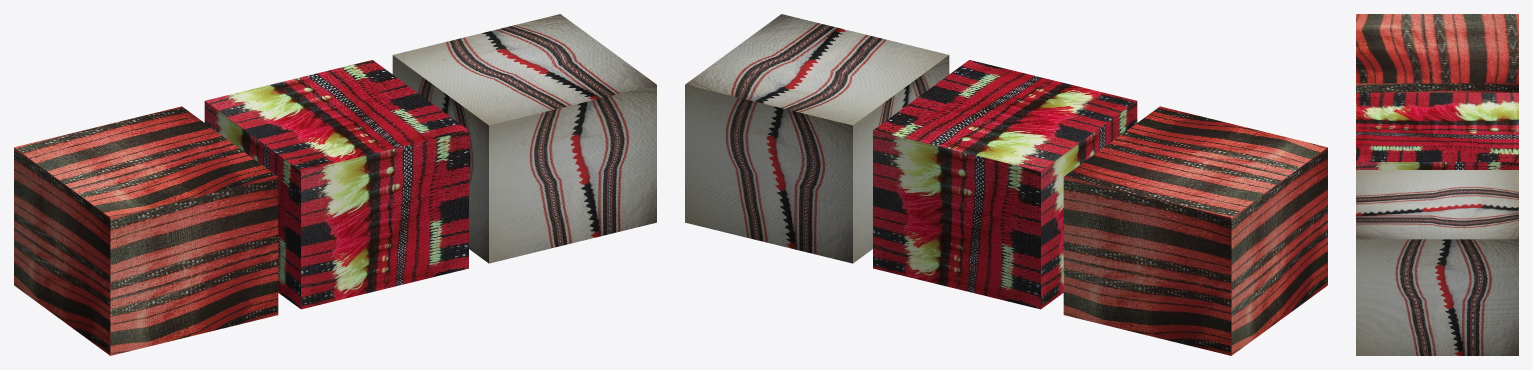
Rendered from _3shirts.FBX.
3 renders of one model, left to right at view 1: azimuth 30°, elevation 25°; view 2: azimuth 150°, elevation 25°; view 3: azimuth 270°, elevation 25°, orthographic. The views are drawn at different scales.
Parts seen in each view (by area): view 1: Box001, Box002, Box003; view 2: Box001, Box002, Box003; view 3: Box003, Box001, Box002.
Part boxes in pixels (box(x1,y1,x2,y2)): Box001: box(14, 106, 278, 355); Box002: box(204, 60, 468, 309); Box003: box(392, 14, 656, 263); Box001: box(1063, 106, 1327, 355); Box002: box(873, 60, 1137, 309); Box003: box(685, 14, 949, 263); Box003: box(1356, 170, 1518, 355); Box001: box(1356, 14, 1518, 92); Box002: box(1356, 92, 1518, 169).
Bounding box in the file's own units: 80.37 × 19.41 × 24.56.
